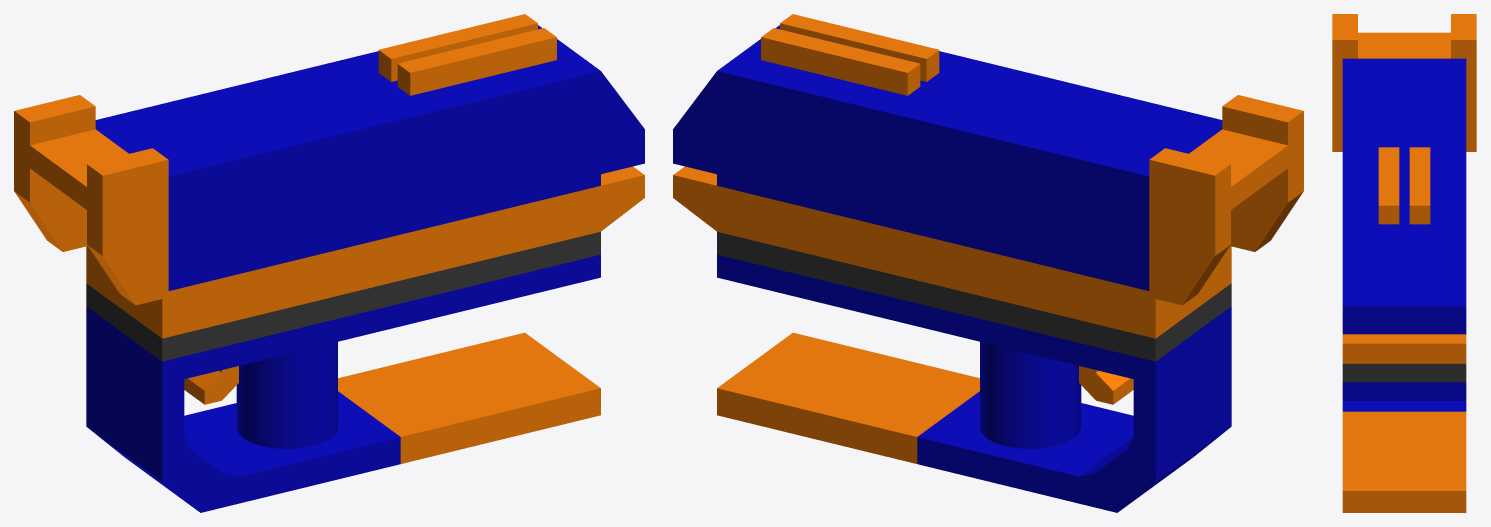
The model's file is AEP1 FiNNISH.dae.
3 renders of one model, left to right at view 1: azimuth 30°, elevation 25°; view 2: azimuth 150°, elevation 25°; view 3: azimuth 270°, elevation 25°, orthographic. The views are drawn at different scales.
Parts seen in each view (by area): view 1: SketchUp (×9); view 2: SketchUp (×9); view 3: SketchUp (×7).
Part boxes in pixels (box(x1,y1,x2,y2)): SketchUp (×9): box(14, 14, 644, 512); SketchUp (×9): box(673, 14, 1303, 512); SketchUp (×7): box(1332, 14, 1476, 512).
Bounding box in the file's own units: 25 × 7 × 16.
